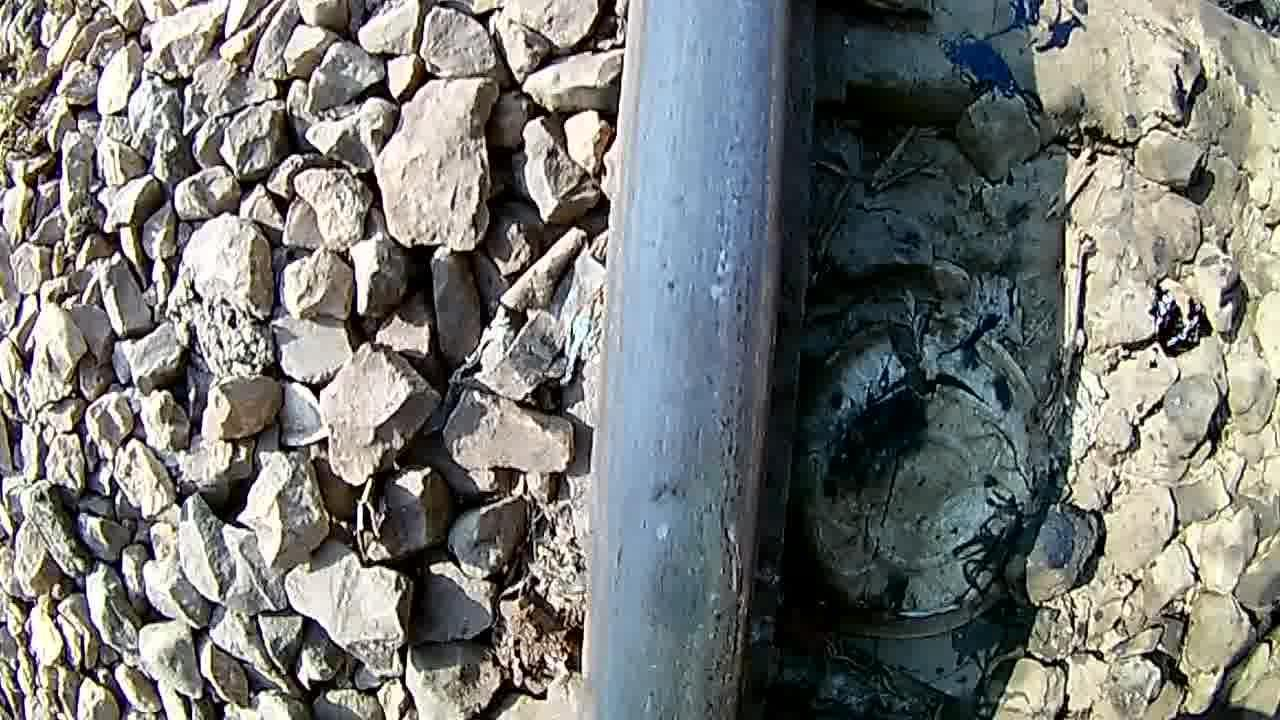crack: (594, 433, 744, 720)
